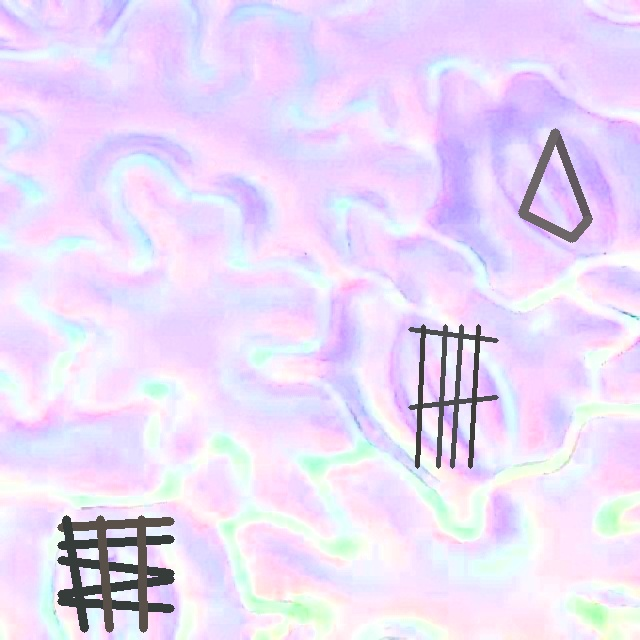open: (57, 515, 174, 632), (409, 324, 498, 467), (519, 128, 592, 242)
